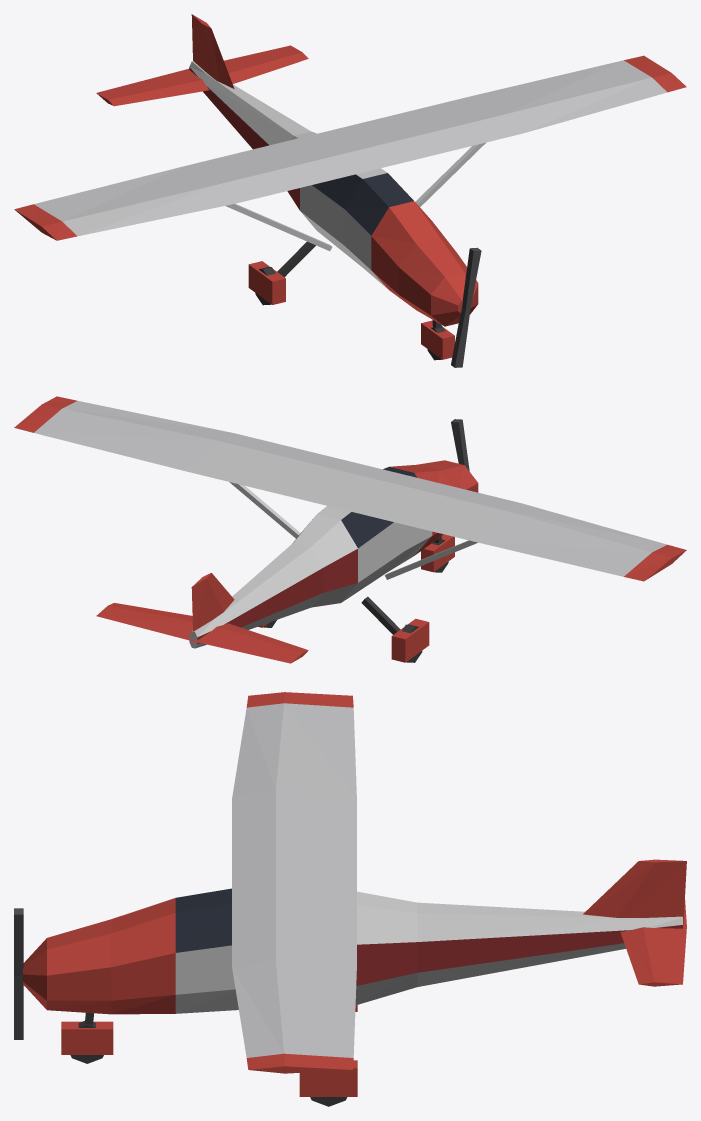
The model's file is avion_cessna.glb.
3 renders of one model, top to bottom at view 1: azimuth 30°, elevation 25°; view 2: azimuth 150°, elevation 25°; view 3: azimuth 270°, elevation 25°, orthographic. The views are drawn at different scales.
Parts seen in each view (by area): view 1: avion_cessna; view 2: avion_cessna; view 3: avion_cessna.
Part boxes in pixels (box(x1,y1,x2,y2)): avion_cessna: box(14, 14, 686, 367); avion_cessna: box(14, 396, 686, 663); avion_cessna: box(14, 692, 686, 1106).
Bounding box in the file's own units: 11 × 2.75 × 8.36.
